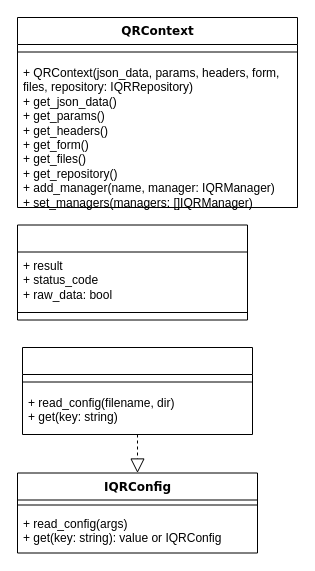
Some shapes in this 315 by 571 pixel diagram are drawn without their labels. Each missing label, with the box of its shape:
MethodResult: (16, 224, 248, 320)
QRYamlConfig: (22, 346, 252, 434)
